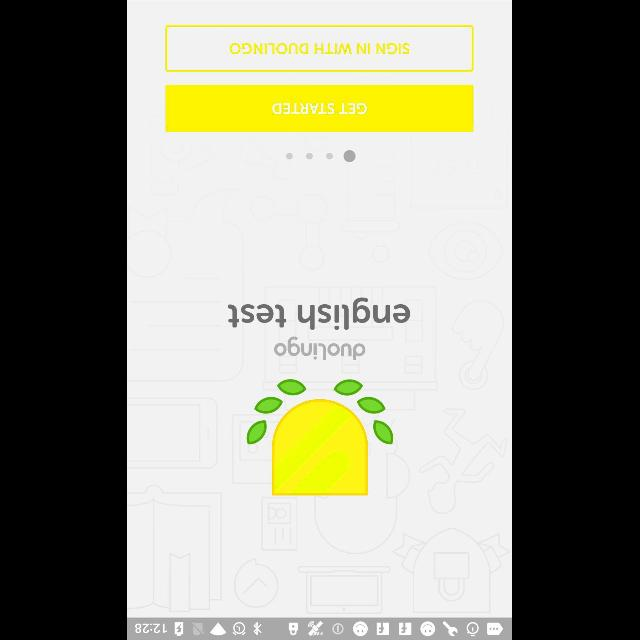backgroundimage: (128, 0, 512, 618)
image: (247, 379, 395, 497)
pageindicator: (287, 150, 357, 162)
text: (228, 296, 412, 330), (274, 336, 366, 360)
textbutton: (166, 84, 474, 132), (166, 26, 474, 72)
uppertaskbar: (128, 617, 512, 639)
